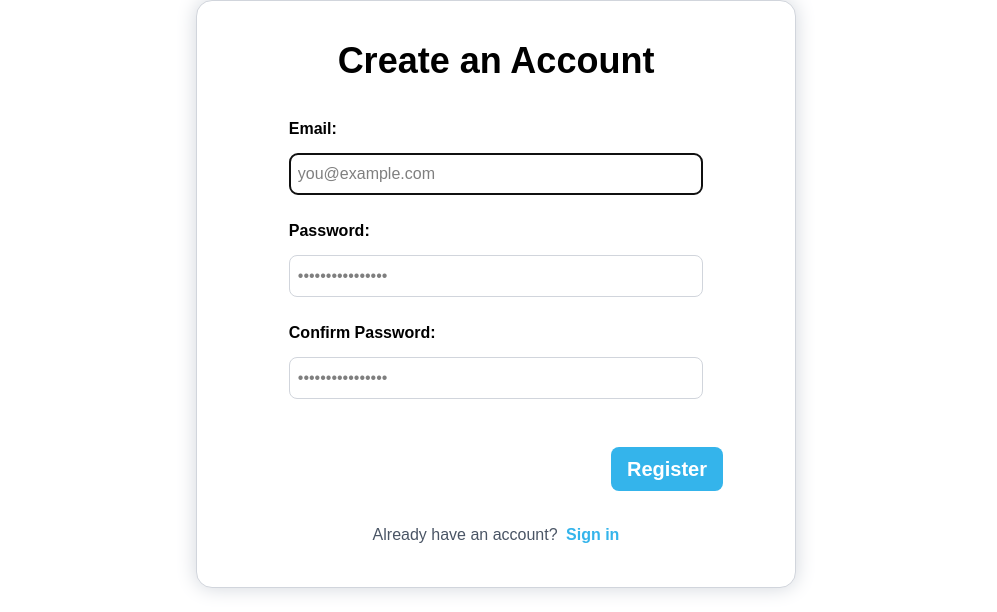
Test case: RegisterPanel › shows both the email required and password tooltips when a user submits without entering any input
Click the button "Register". click: [667, 469]
box: [611, 447, 723, 491]
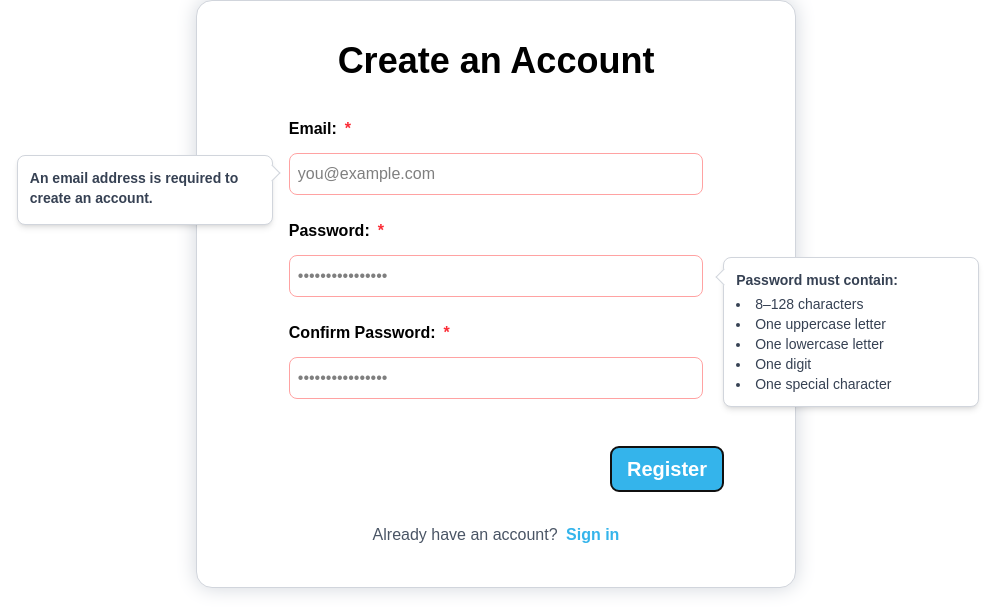
Check: the text "An email address is required to create an account." is shown, box [30, 168, 260, 208]
Check: the text "Password must contain:" is shown, box [736, 272, 898, 288]
